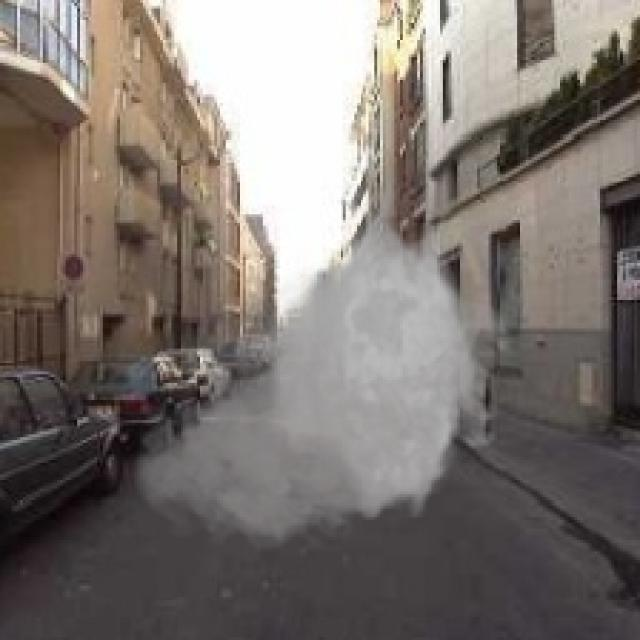smoke: (128, 169, 523, 560)
